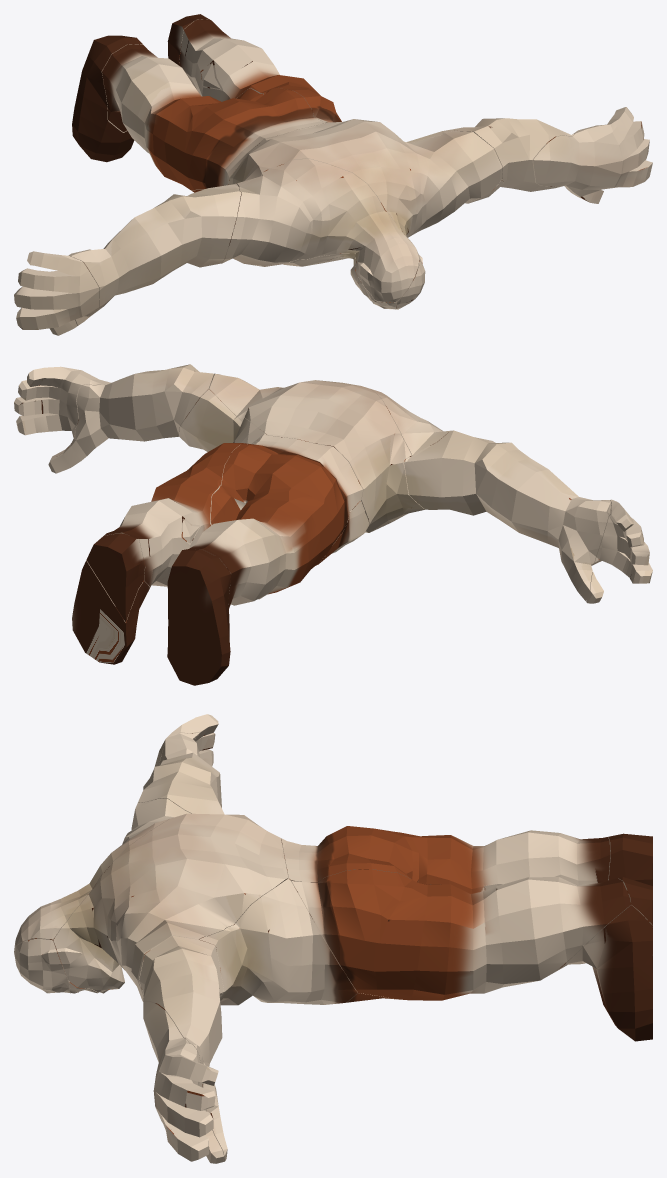
The model's file is cyclopsguyBroke.fbx.
3 renders of one model, top to bottom at view 1: azimuth 30°, elevation 25°; view 2: azimuth 150°, elevation 25°; view 3: azimuth 270°, elevation 25°, orthographic. The views are drawn at different scales.
Parts seen in each view (by area): view 1: GiantDummyMesh_cell.011, GiantDummyMesh_cell.008, GiantDummyMesh_cell.002, GiantDummyMesh_cell.005, GiantDummyMesh_cell.012, GiantDummyMesh_cell.004, GiantDummyMesh_cell.007, GiantDummyMesh_cell.015, GiantDummyMesh_cell.009, GiantDummyMesh_cell.006, GiantDummyMesh_cell.003, GiantDummyMesh_cell; view 2: GiantDummyMesh_cell.011, GiantDummyMesh_cell.005, GiantDummyMesh_cell.002, GiantDummyMesh_cell.009, GiantDummyMesh_cell.015, GiantDummyMesh_cell.004, GiantDummyMesh_cell.001, GiantDummyMesh_cell.012, GiantDummyMesh_cell.006, GiantDummyMesh_cell.010, GiantDummyMesh_cell.007, GiantDummyMesh_cell.008 (+1 smaller); view 3: GiantDummyMesh_cell.004, GiantDummyMesh_cell.002, GiantDummyMesh_cell.011, GiantDummyMesh_cell.010, GiantDummyMesh_cell.009, GiantDummyMesh_cell.012, GiantDummyMesh_cell.001, GiantDummyMesh_cell.005, GiantDummyMesh_cell.008, GiantDummyMesh_cell, GiantDummyMesh_cell.015, GiantDummyMesh_cell.007 (+1 smaller).
Part boxes in pixels (box(x1,y1,x2,y2)): GiantDummyMesh_cell.011: box(102, 44, 326, 189); GiantDummyMesh_cell.008: box(221, 158, 419, 302); GiantDummyMesh_cell.002: box(229, 119, 502, 263); GiantDummyMesh_cell.005: box(68, 183, 241, 325); GiantDummyMesh_cell.012: box(533, 107, 652, 203); GiantDummyMesh_cell.004: box(179, 19, 341, 122); GiantDummyMesh_cell.007: box(14, 251, 99, 329); GiantDummyMesh_cell.015: box(72, 35, 142, 162); GiantDummyMesh_cell.009: box(453, 118, 583, 198); GiantDummyMesh_cell.006: box(167, 14, 208, 65); GiantDummyMesh_cell.003: box(255, 253, 362, 292); GiantDummyMesh_cell: box(397, 255, 425, 309); GiantDummyMesh_cell.011: box(186, 435, 363, 616); GiantDummyMesh_cell.005: box(403, 430, 611, 600); GiantDummyMesh_cell.002: box(209, 374, 416, 532); GiantDummyMesh_cell.009: box(48, 364, 215, 473); GiantDummyMesh_cell.015: box(167, 549, 230, 685); GiantDummyMesh_cell.004: box(104, 436, 262, 587); GiantDummyMesh_cell.001: box(72, 560, 149, 664); GiantDummyMesh_cell.012: box(14, 366, 120, 460); GiantDummyMesh_cell.006: box(86, 533, 144, 622); GiantDummyMesh_cell.010: box(177, 389, 266, 451); GiantDummyMesh_cell.007: box(592, 499, 652, 583); GiantDummyMesh_cell.008: box(371, 389, 450, 455); GiantDummyMesh_cell.004: box(292, 869, 630, 1000); GiantDummyMesh_cell.002: box(53, 813, 288, 1001); GiantDummyMesh_cell.011: box(281, 826, 610, 893); GiantDummyMesh_cell.010: box(199, 878, 357, 1005); GiantDummyMesh_cell.009: box(139, 936, 227, 1161); GiantDummyMesh_cell.012: box(143, 1002, 223, 1163); GiantDummyMesh_cell.001: box(561, 905, 652, 1041); GiantDummyMesh_cell.005: box(138, 732, 224, 814); GiantDummyMesh_cell.008: box(14, 798, 190, 952); GiantDummyMesh_cell: box(14, 939, 69, 993); GiantDummyMesh_cell.015: box(608, 833, 652, 885); GiantDummyMesh_cell.007: box(155, 714, 218, 766).
Size of the model in its own units: 3.95 by 0.8697 by 2.83.
